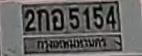1: (82, 7, 89, 28)
2: (24, 8, 34, 32)
4: (106, 5, 115, 28)
5: (92, 5, 103, 28), (68, 8, 79, 28)
A01: (36, 8, 49, 31)
A43: (51, 8, 63, 30)
BKK: (34, 37, 108, 52)
